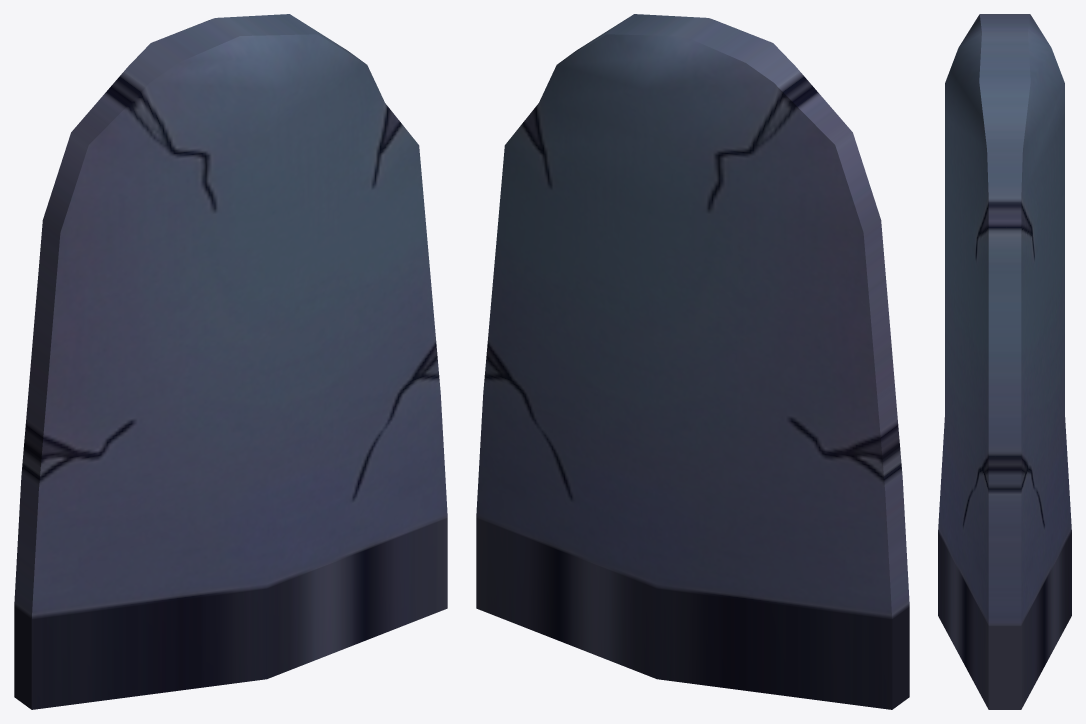
The model's file is Gravestone04.glb.
3 renders of one model, left to right at view 1: azimuth 30°, elevation 25°; view 2: azimuth 150°, elevation 25°; view 3: azimuth 270°, elevation 25°, orthographic. The views are drawn at different scales.
Visible parts, largest first — view 1: Gravestone04; view 2: Gravestone04; view 3: Gravestone04.
Part boxes in pixels (<box>): Gravestone04: <box>14,14,447,709</box>; Gravestone04: <box>476,14,909,709</box>; Gravestone04: <box>938,14,1071,709</box>.
Size of the model in its own units: 3.66 by 5.27 by 1.1.
1 material, 1 textured.
